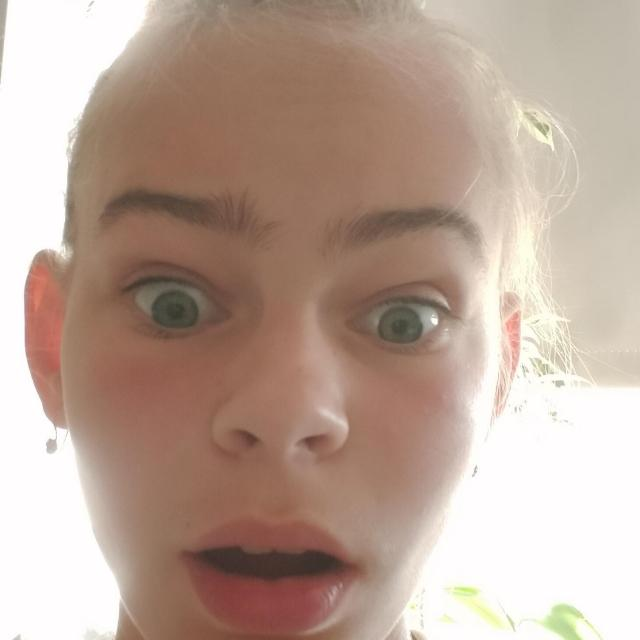Surprised: (15, 127, 573, 640)
